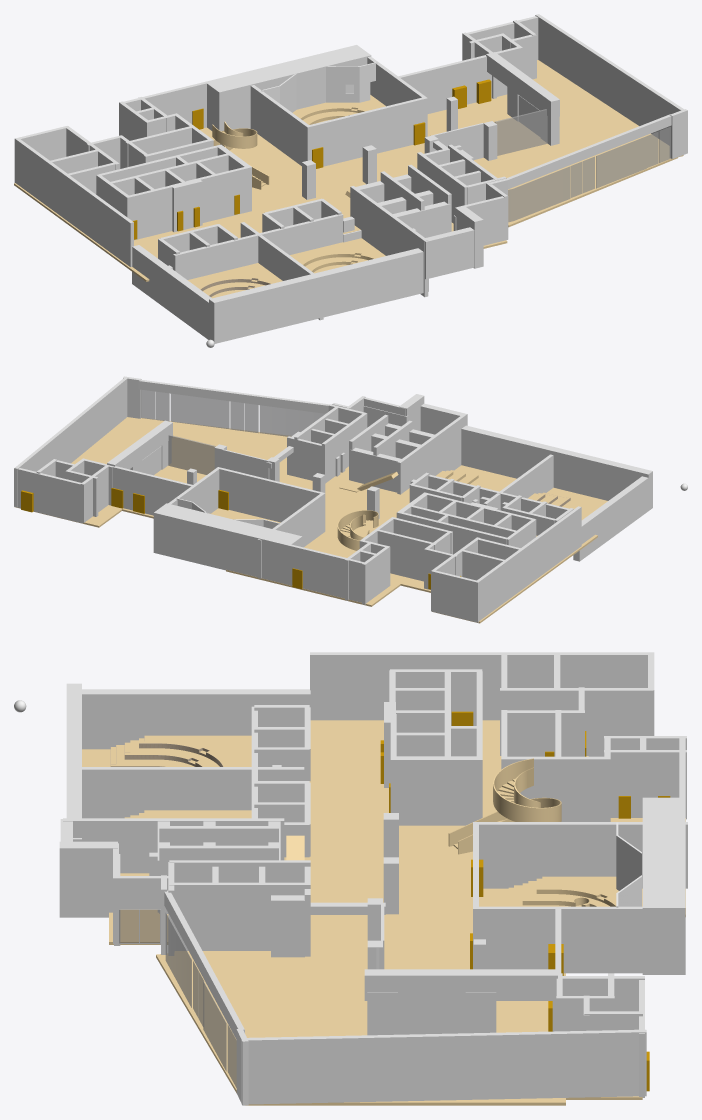
File: basement_ultraSimp.glb
The picture shows the model from 3 angles, top to bottom: view 1: azimuth 30°, elevation 25°; view 2: azimuth 150°, elevation 25°; view 3: azimuth 270°, elevation 25°; orthographic projection. The views are drawn at different scales.
Parts seen in each view (by area): view 1: Wall124, Wall2, Wall12, Wall32, Wall24, Wall112, Wall119, Wall96, 组件_87_2, Wall, Wall125, Wall88 (+53 smaller); view 2: Wall24, Wall2, Wall124, Wall32, Wall12, Wall119, Wall25, Wall, Wall88, Wall13, Wall125, Wall112 (+54 smaller); view 3: Wall12, Wall124, Wall32, Wall112, Wall125, Wall23, Wall, Wall115, Wall93, Wall24, Wall85, Wall72 (+48 smaller).
Part boxes in pixels (<box>): Wall124: <box>356,77,683,196</box>; Wall2: <box>209,248,428,343</box>; Wall12: <box>535,14,686,153</box>; Wall32: <box>14,139,133,266</box>; Wall24: <box>205,45,371,131</box>; Wall112: <box>199,127,364,238</box>; Wall119: <box>306,96,427,166</box>; Wall96: <box>173,214,343,279</box>; 组件_87_2: <box>261,62,385,124</box>; Wall: <box>132,245,212,339</box>; Wall125: <box>358,101,677,227</box>; Wall88: <box>350,186,428,297</box>; Wall24: <box>153,503,302,584</box>; Wall2: <box>461,425,652,510</box>; Wall124: <box>71,417,333,522</box>; Wall32: <box>475,506,581,622</box>; Wall12: <box>14,378,127,507</box>; Wall119: <box>219,467,324,522</box>; Wall25: <box>287,544,365,602</box>; Wall: <box>573,476,648,561</box>; Wall88: <box>397,413,466,494</box>; Wall13: <box>14,468,82,523</box>; Wall125: <box>103,418,291,513</box>; Wall112: <box>226,488,409,606</box>; Wall12: <box>241,1029,646,1104</box>; Wall124: <box>243,942,565,1105</box>; Wall32: <box>310,652,653,720</box>; Wall112: <box>284,796,685,916</box>; Wall125: <box>156,928,532,1092</box>; Wall23: <box>473,906,642,973</box>; Wall: <box>82,689,310,749</box>; Wall115: <box>473,822,687,888</box>; Wall93: <box>82,767,304,818</box>; Wall24: <box>642,797,685,974</box>; Wall85: <box>169,882,310,950</box>; Wall72: <box>390,756,482,825</box>.
Size of the model in its own units: 77.67 by 9.35 by 54.85.
8 materials, 1 textured.
